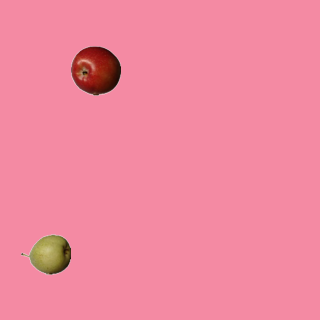Apple Braeburn: (70, 45, 120, 95)
Pear: (20, 229, 70, 279)
